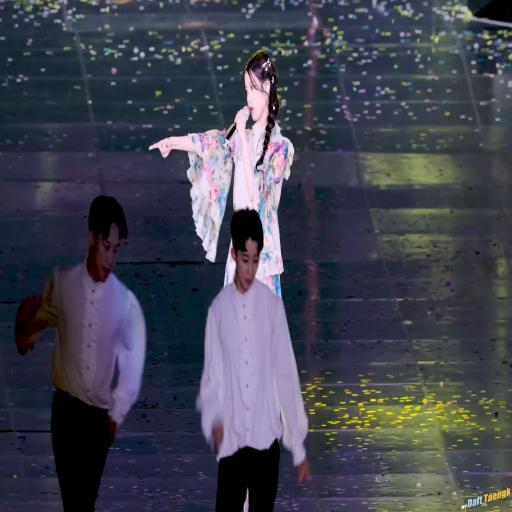IU: (244, 50, 280, 122)
